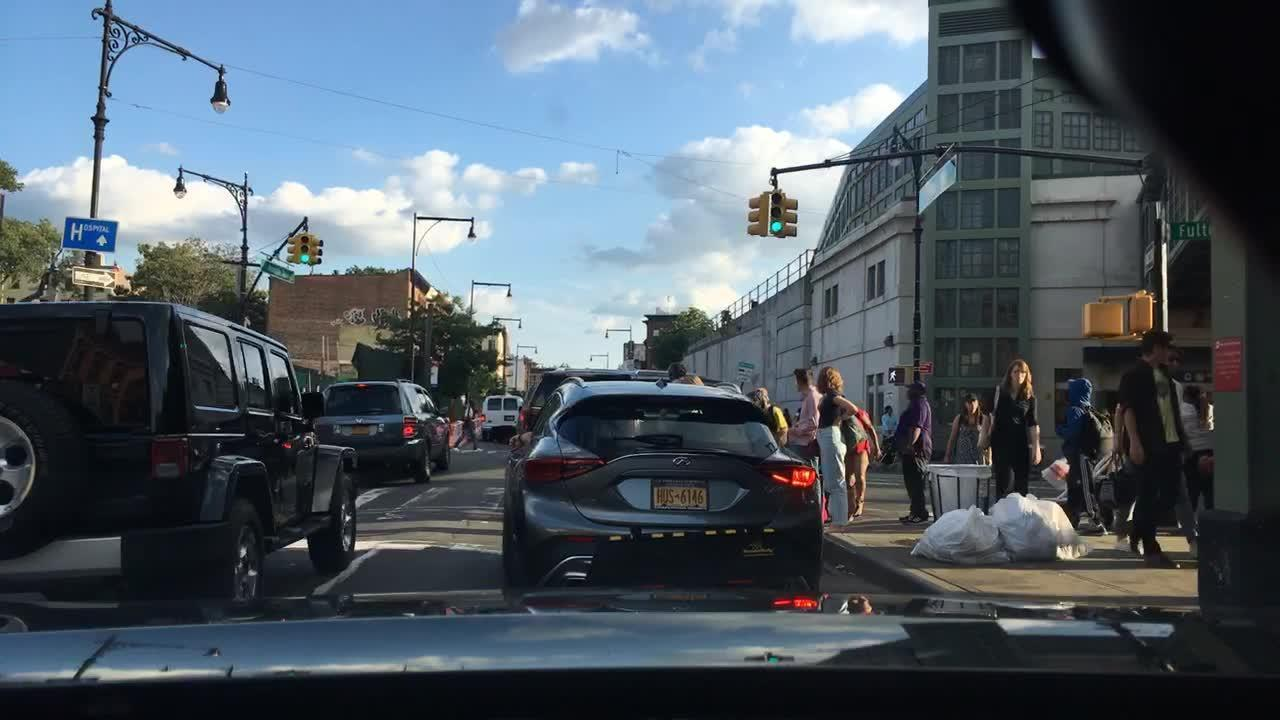Infiniti: (666, 451, 699, 478)
